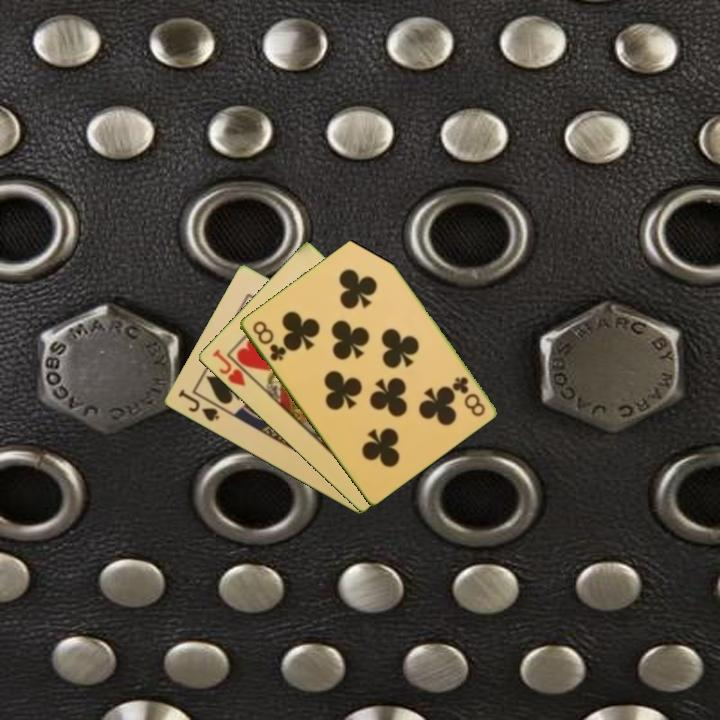8c: (248, 317, 288, 364), (449, 373, 488, 420)
Jh: (209, 345, 258, 389)
Js: (174, 386, 222, 425)
